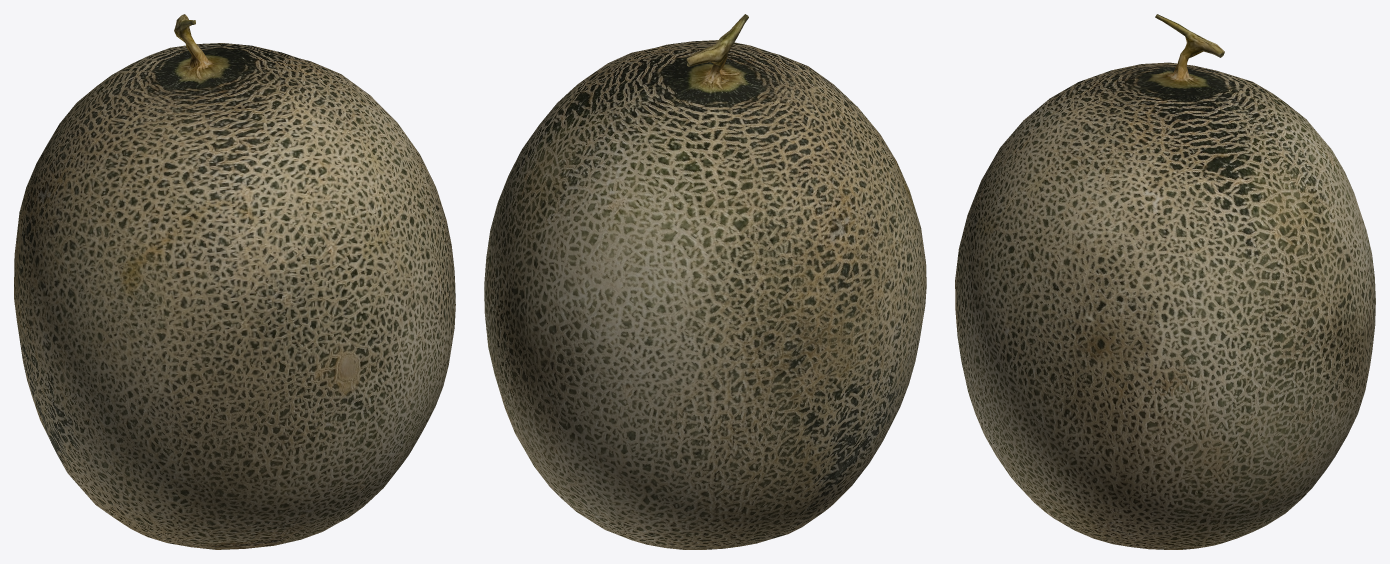
Rendered from kiri_melon.gltf.
The picture shows the model from 3 angles, left to right: view 1: azimuth 30°, elevation 25°; view 2: azimuth 150°, elevation 25°; view 3: azimuth 270°, elevation 25°; orthographic projection. The views are drawn at different scales.
Visible parts, largest first — view 1: A131_Cantaloupe; view 2: A131_Cantaloupe; view 3: A131_Cantaloupe.
Part boxes in pixels (x1=…): A131_Cantaloupe: x1=14, y1=14, x2=455, y2=549; A131_Cantaloupe: x1=484, y1=14, x2=926, y2=549; A131_Cantaloupe: x1=955, y1=14, x2=1375, y2=549.
Size of the model in its own units: 0.1497 by 0.1928 by 0.1497.
1 material, 1 textured.
